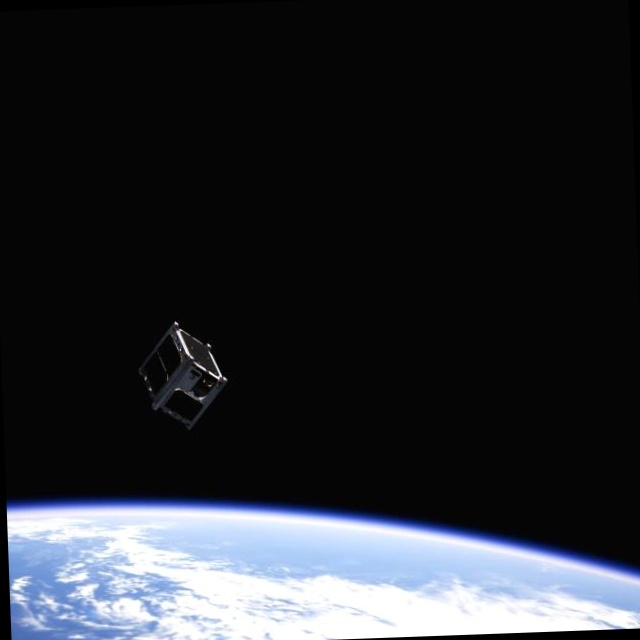medium_debris: (130, 317, 226, 434)
